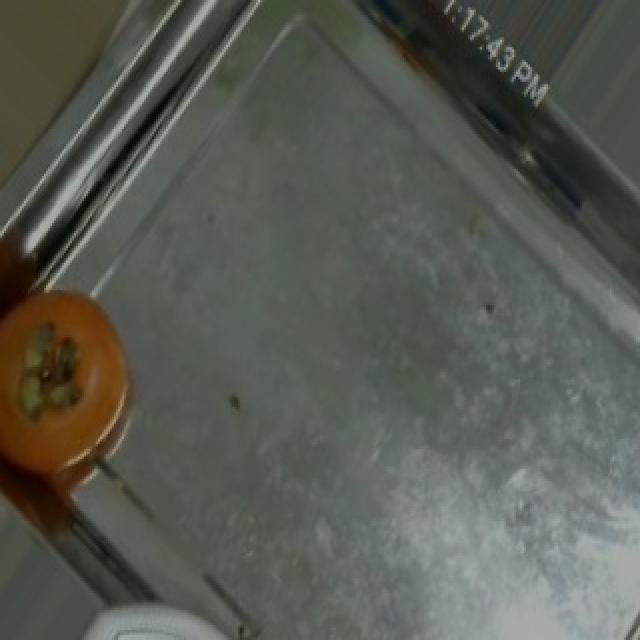Fruit: (0, 276, 152, 504)
